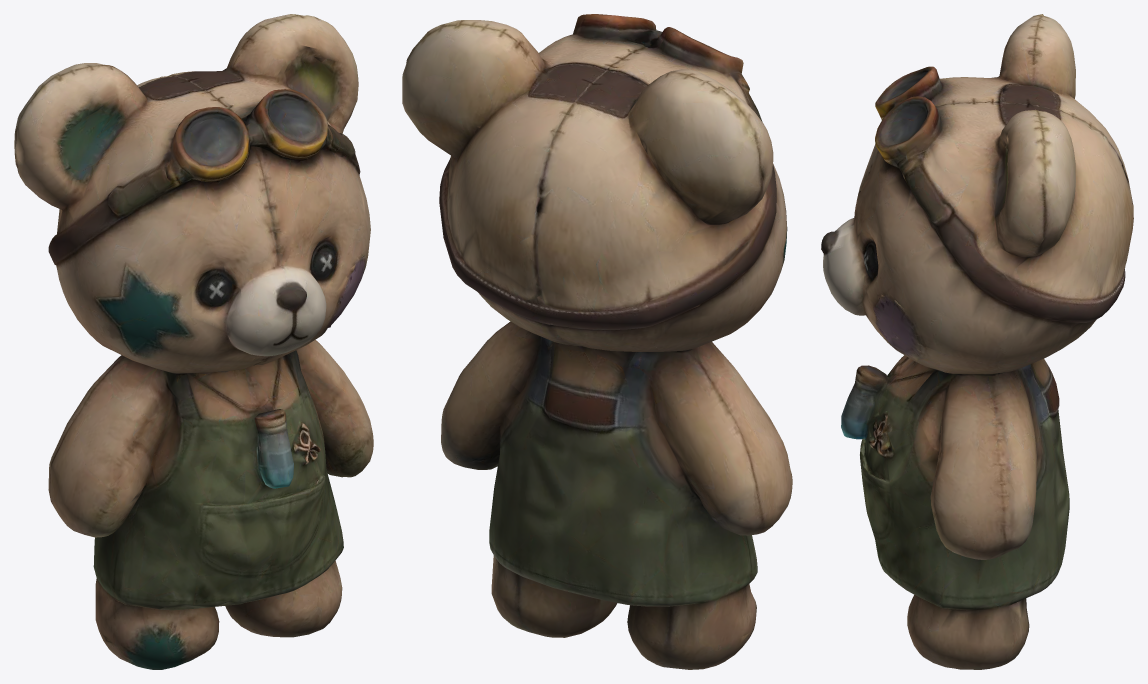
The model's file is bear-steampunk.glb.
3 views of the same model, side by side, from view 1: azimuth 30°, elevation 25°; view 2: azimuth 150°, elevation 25°; view 3: azimuth 270°, elevation 25° (orthographic). The views are drawn at different scales.
Size of the model in its own units: 1.22 by 2 by 1.01.
1 material, 1 textured.
